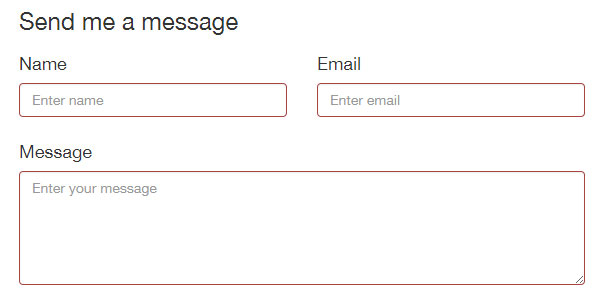error_field: (18, 170, 586, 286), (18, 81, 288, 118), (316, 82, 587, 118)
